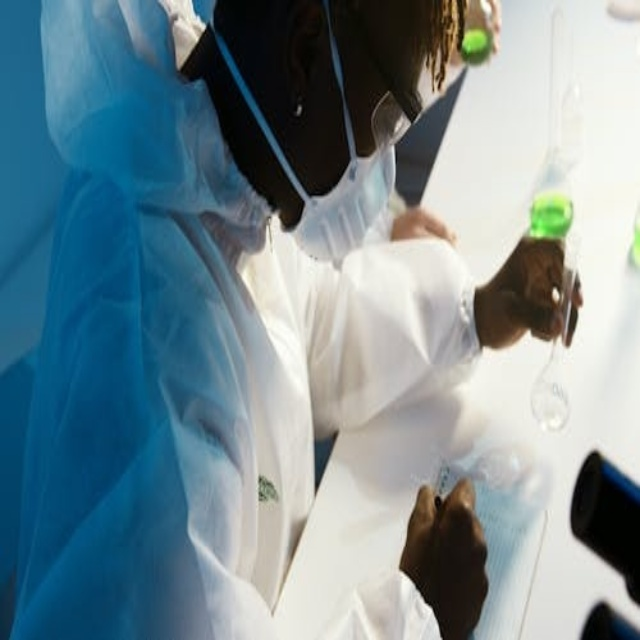Gafas: (343, 7, 438, 157)
Mascara: (278, 125, 407, 296)
Sin_guantes: (400, 474, 488, 640), (481, 230, 579, 350), (389, 205, 457, 248)
